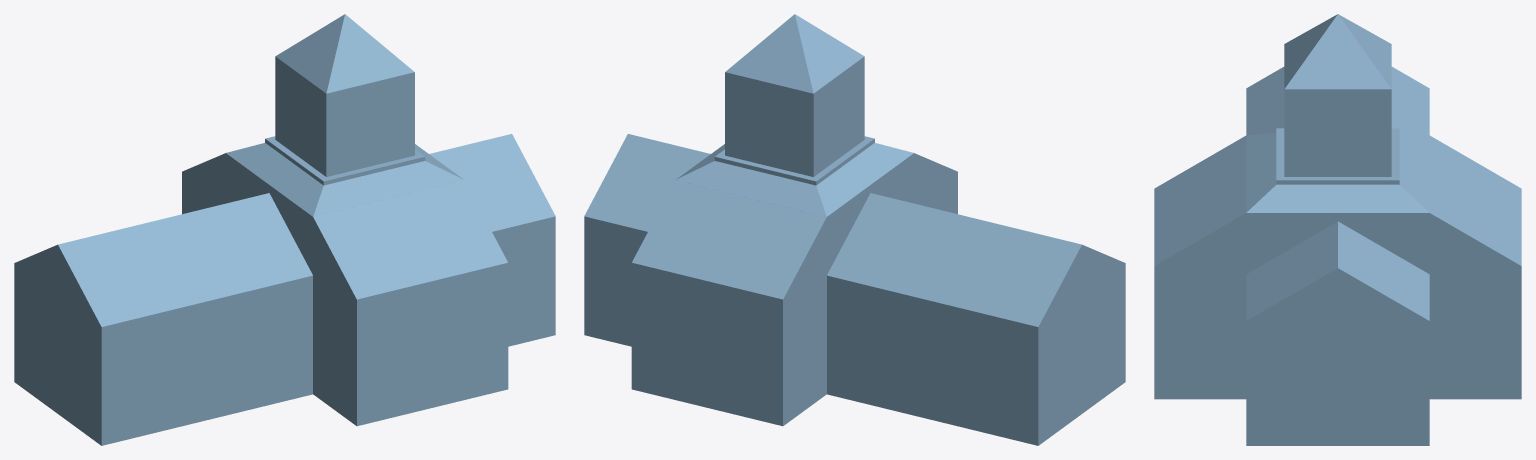
The model's file is Church01.fbx.
3 renders of one model, left to right at view 1: azimuth 30°, elevation 25°; view 2: azimuth 150°, elevation 25°; view 3: azimuth 270°, elevation 25°, orthographic. The views are drawn at different scales.
Visible parts, largest first — view 1: Plane; view 2: Plane; view 3: Plane.
Part boxes in pixels (x1=…): Plane: x1=14, y1=14, x2=555, y2=445; Plane: x1=584, y1=14, x2=1125, y2=445; Plane: x1=1154, y1=14, x2=1521, y2=445.
Bounding box in the file's own units: 13.5 × 9.37 × 9.
